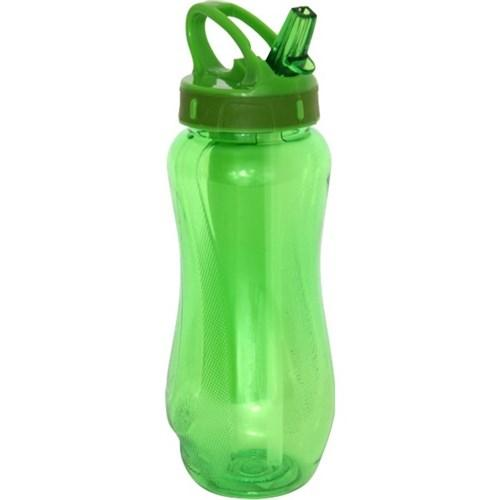PP: (166, 0, 337, 500)
